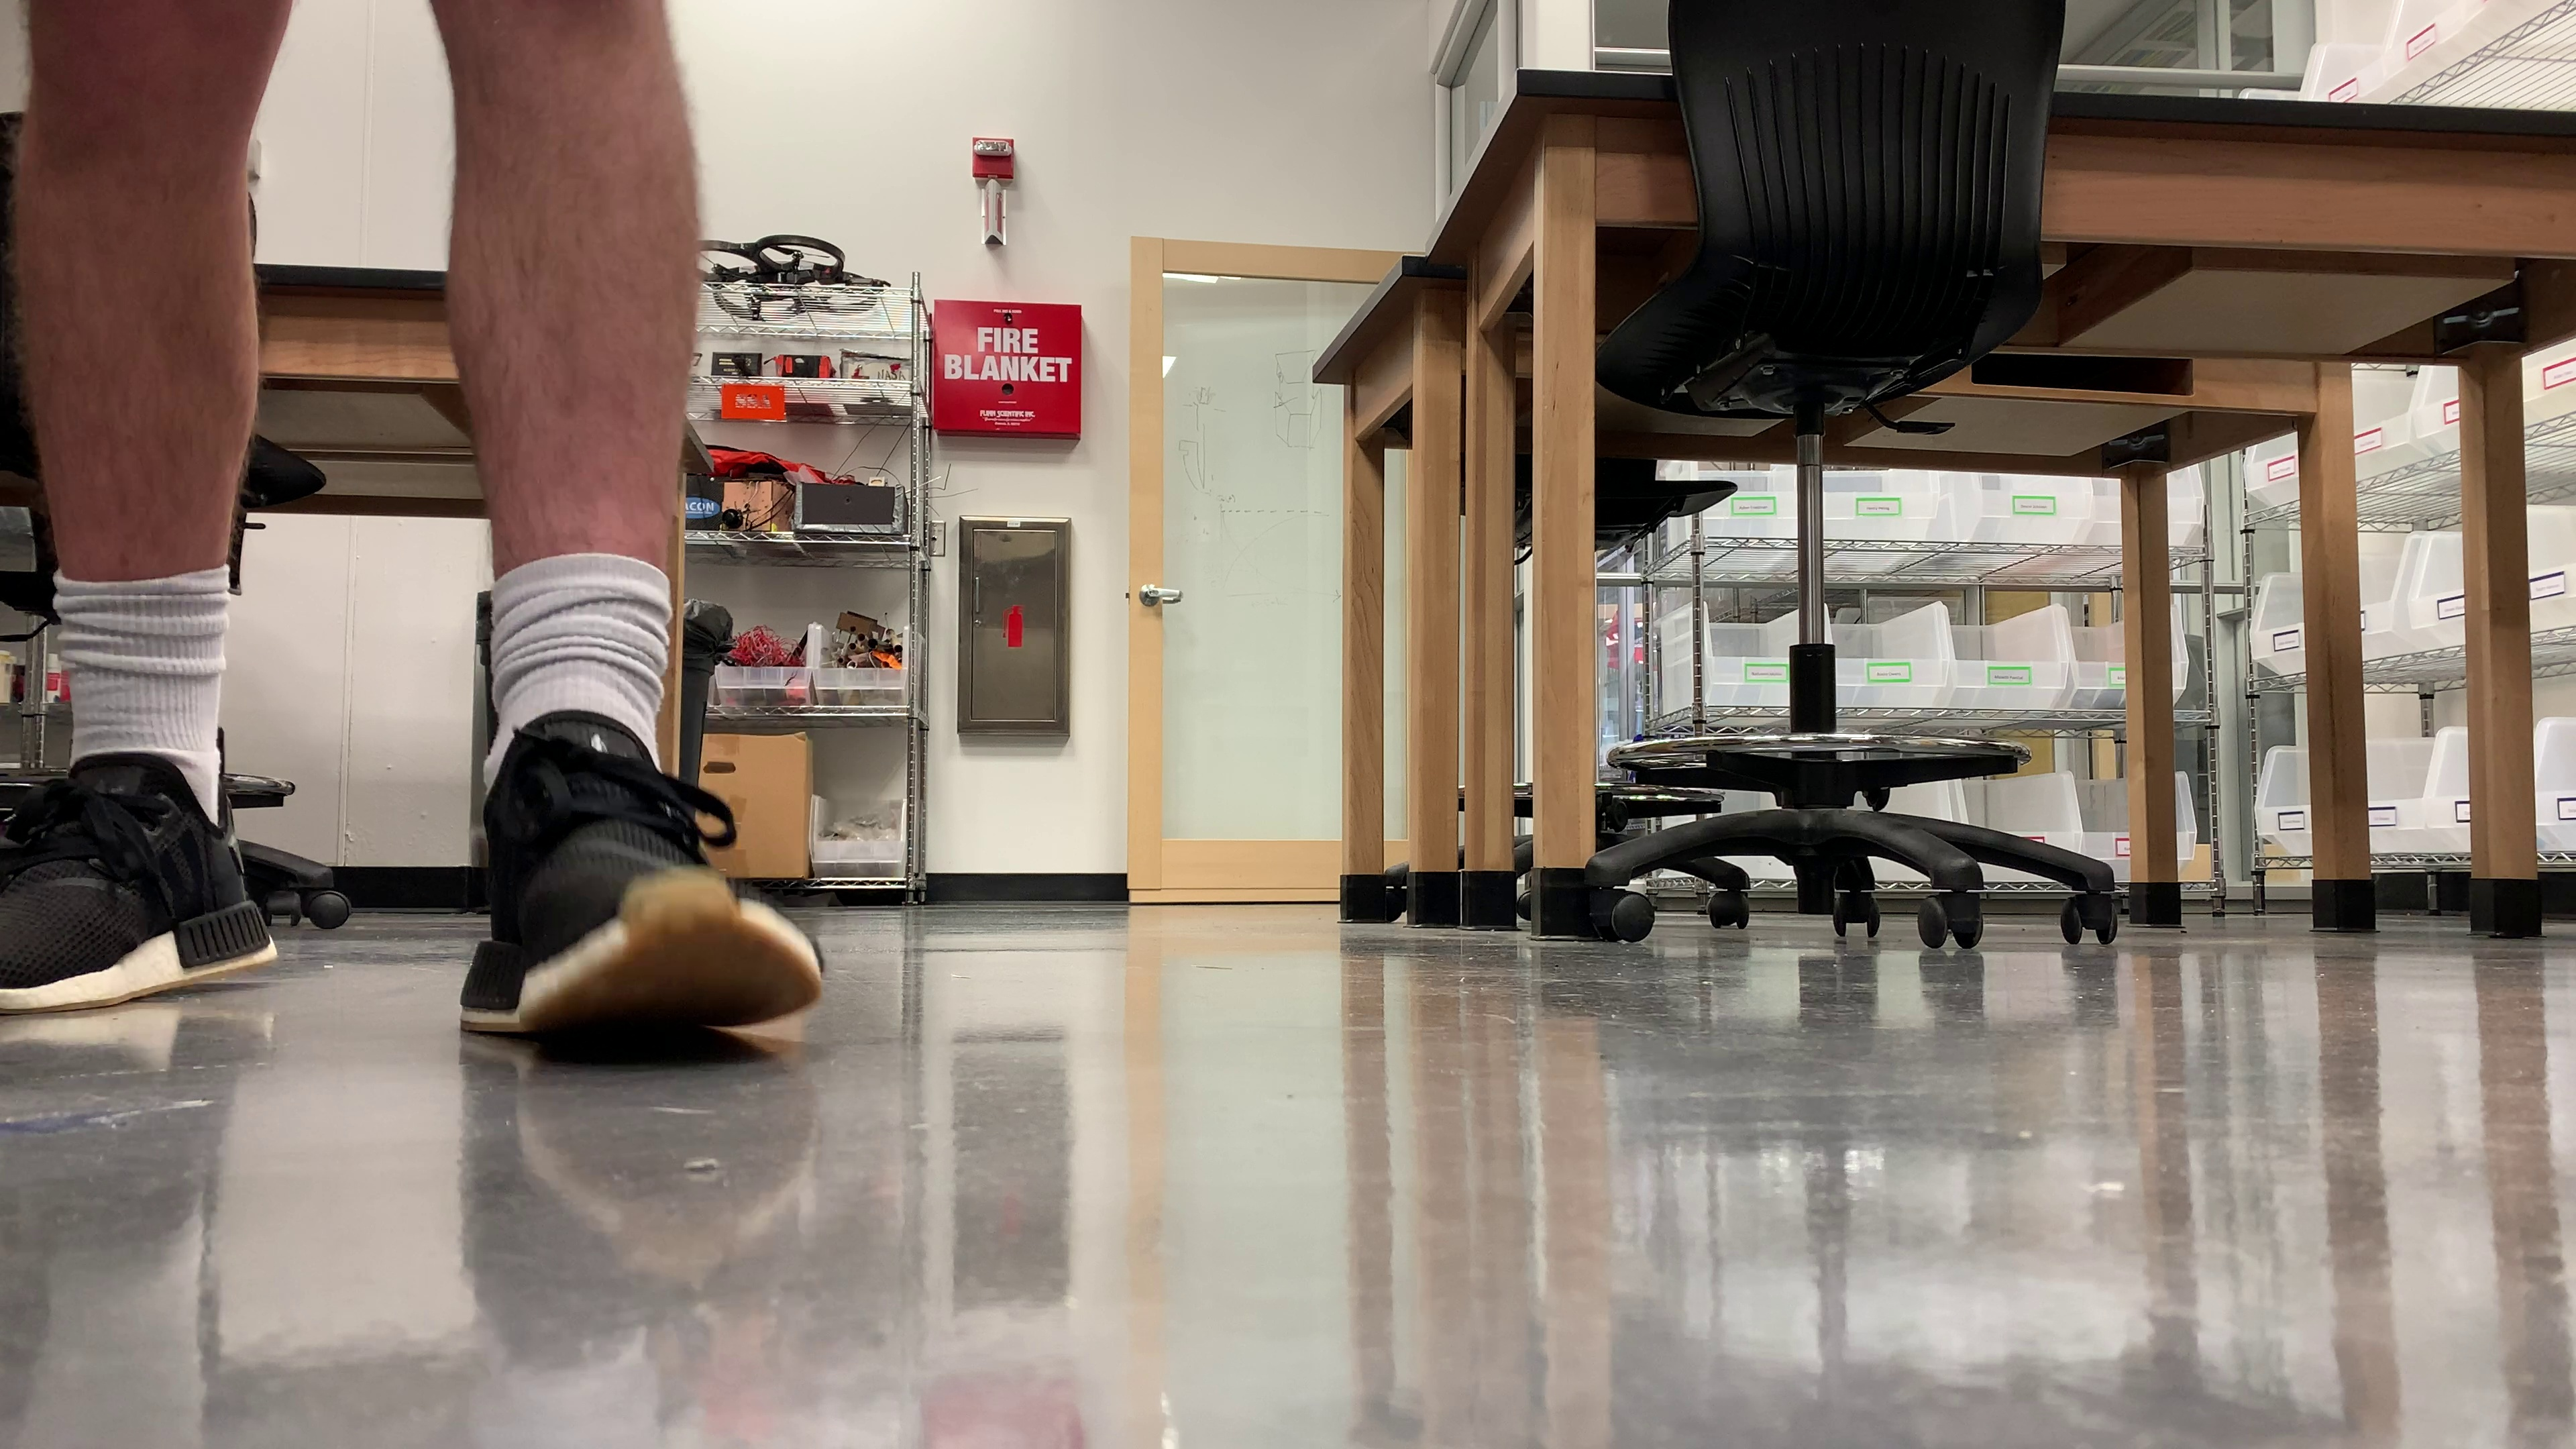shoe: (460, 708, 823, 1037), (0, 750, 276, 1012)
